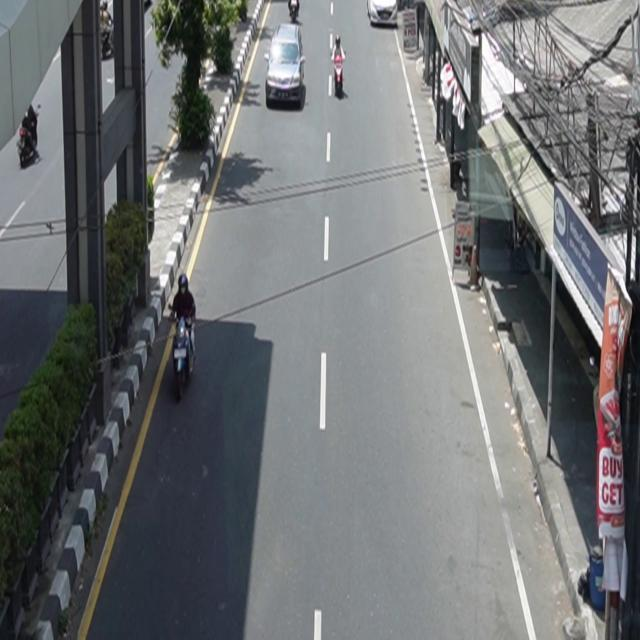car: (265, 23, 306, 109), (367, 1, 399, 28)
